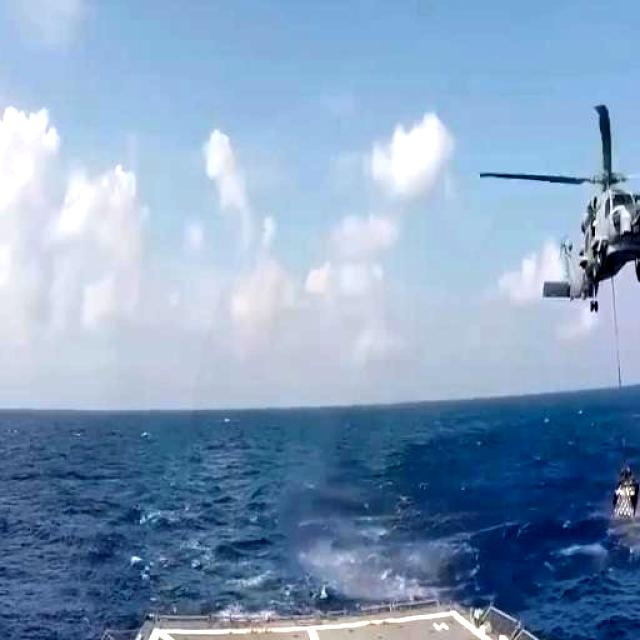drone: (472, 86, 640, 330)
